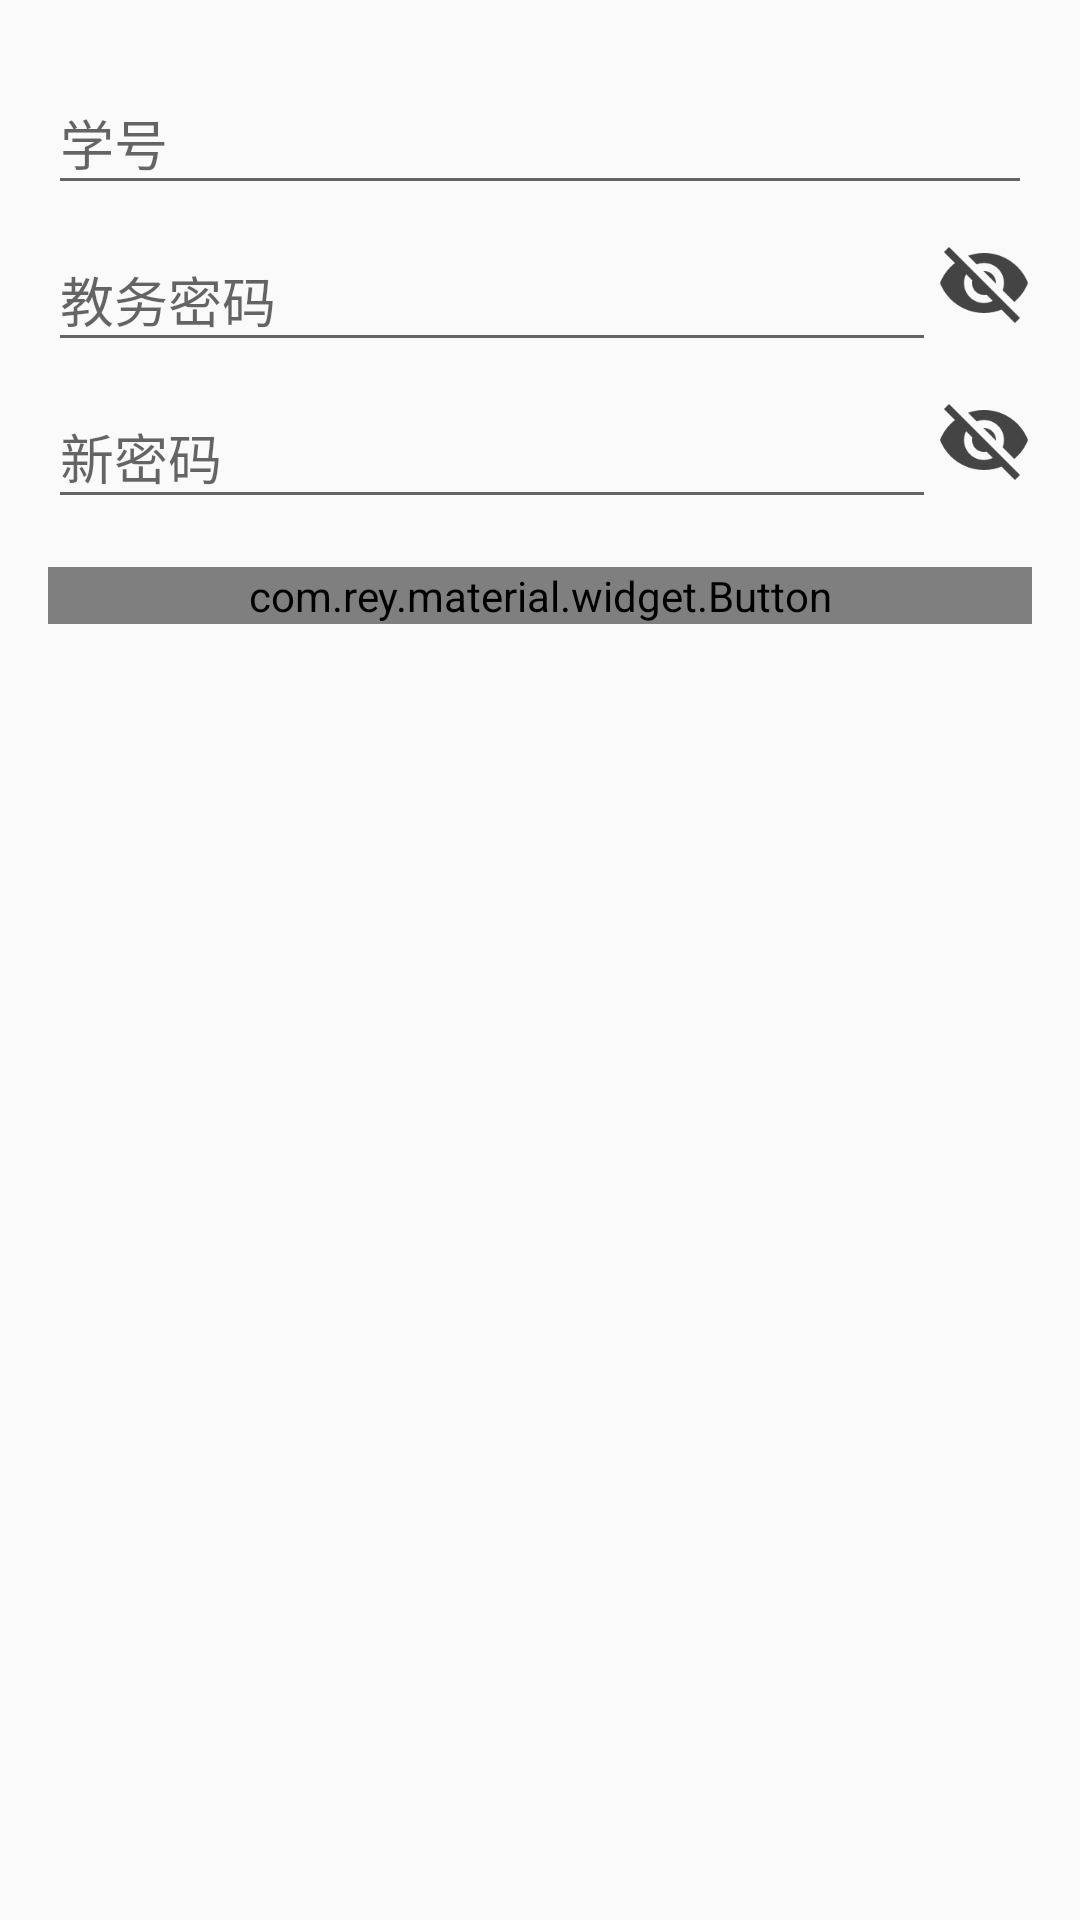

Where icons sit on this 1080w x 1920h app screen, as bbox=(x1, y1, x2, y2):
eye off: bbox=(940, 247, 1028, 323), bbox=(940, 404, 1028, 480)
